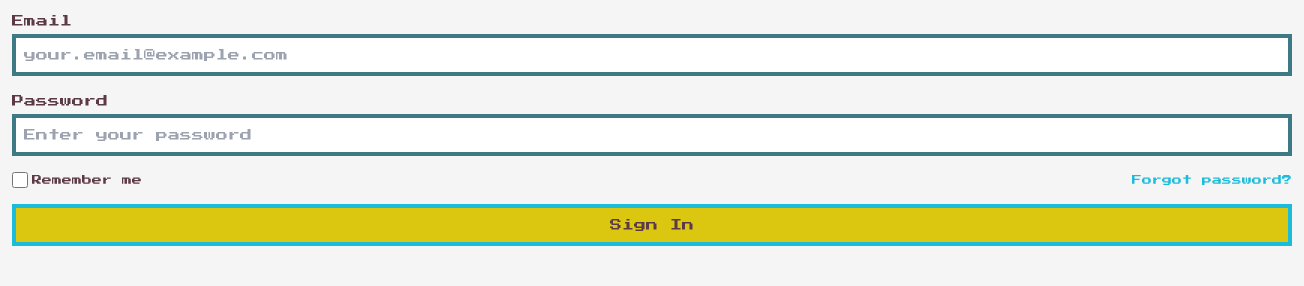
LoginForm › validates password field
Enter valid email
Step 1. Type "test@example.com" into the field labelled "Email" → (652, 55), box 12,34 -> 1292,76
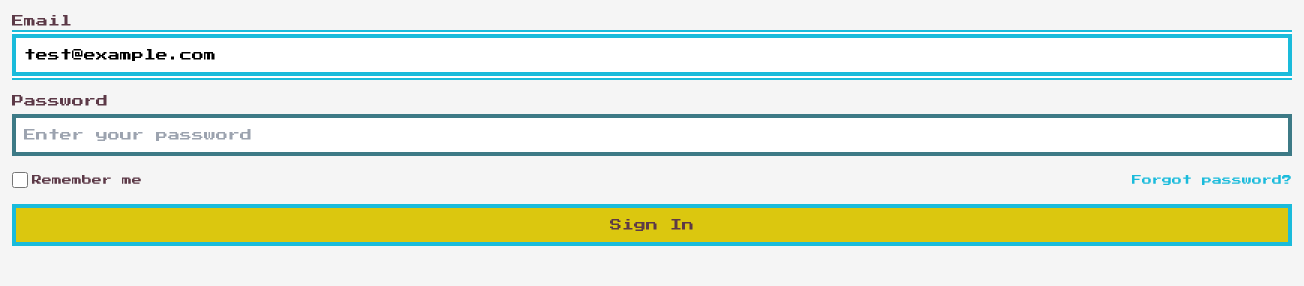
Try to submit with empty password
Step 2. Click the button "Sign In" → click(652, 225), box 12,204 -> 1292,246
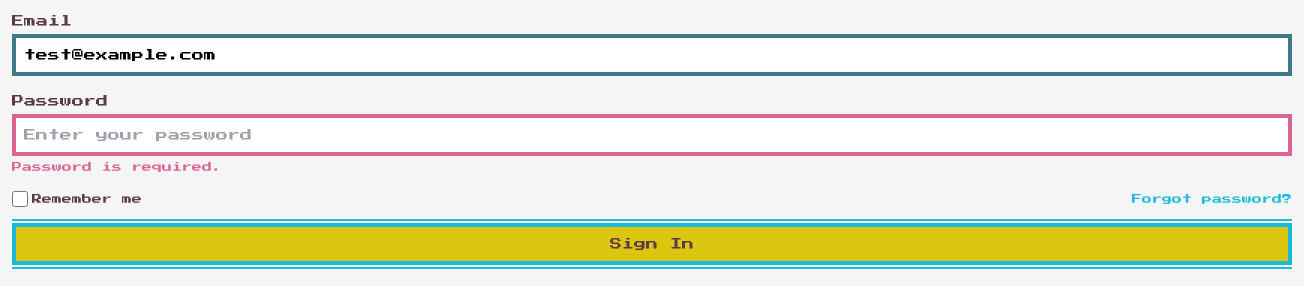
Check: the text "Password is required." is shown, box 12,162 -> 222,172
Try to submit with short password
Step 3. Type "12345" into the password field with placeholder "Enter your password" → (652, 135), box 12,114 -> 1292,156
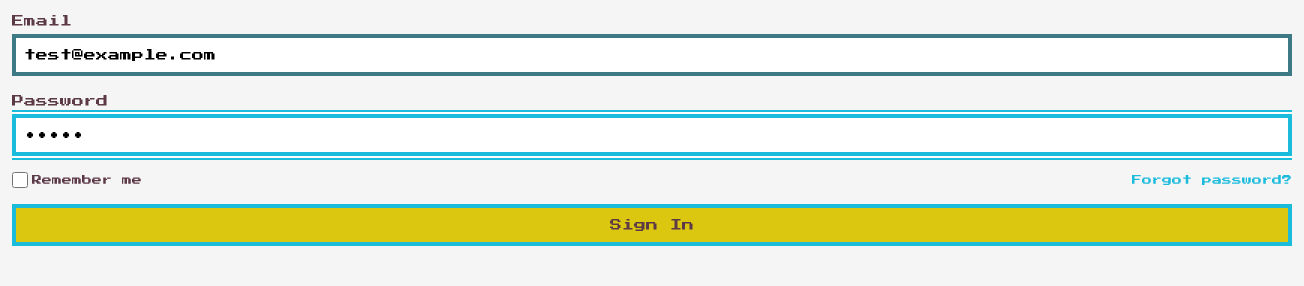
Step 4. Click the button "Sign In" → click(652, 225), box 12,204 -> 1292,246
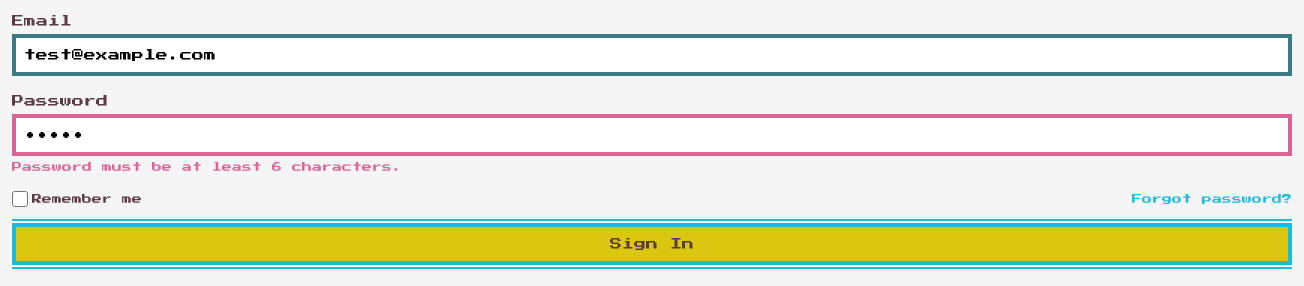
Check: the text "Password must be at least 6 characters." is shown, box 12,162 -> 402,172
